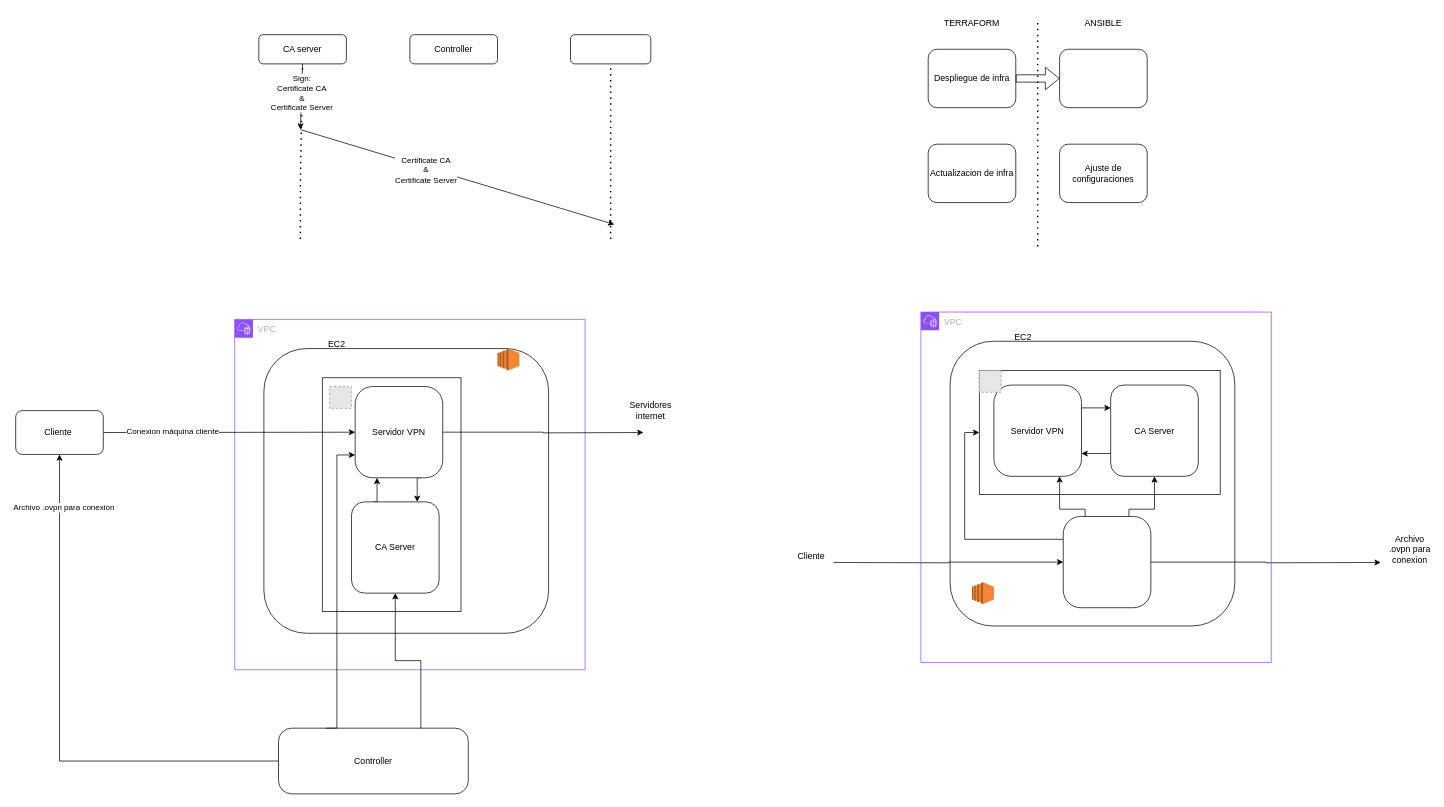
The diagram is 1444 pixels wide and 807 high, and some of its shapes have lost their labels. Grey dashed boxes stand in for pictures. Each missing label, with the centre of its shape:
"App" belongs at pixel 1107 562.
"Configuracion de componentes" belongs at pixel 1103 78.
"VPN Server" belongs at pixel 610 49.
